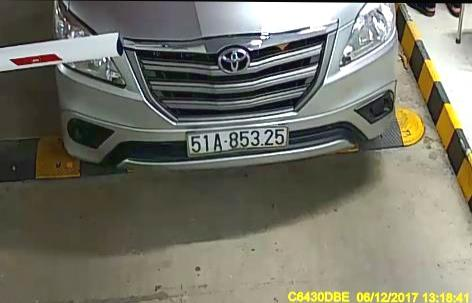License_Plate: (186, 125, 291, 158)
